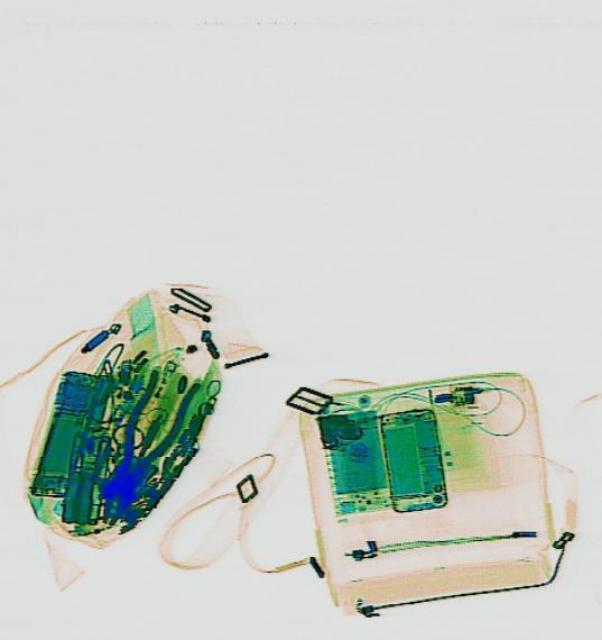Pliers: (78, 360, 201, 536)
